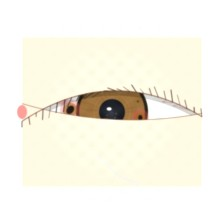foreign_body_visible: (47, 92, 93, 128)
